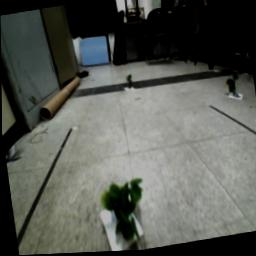herb: (99, 175, 150, 249), (225, 75, 242, 102)
